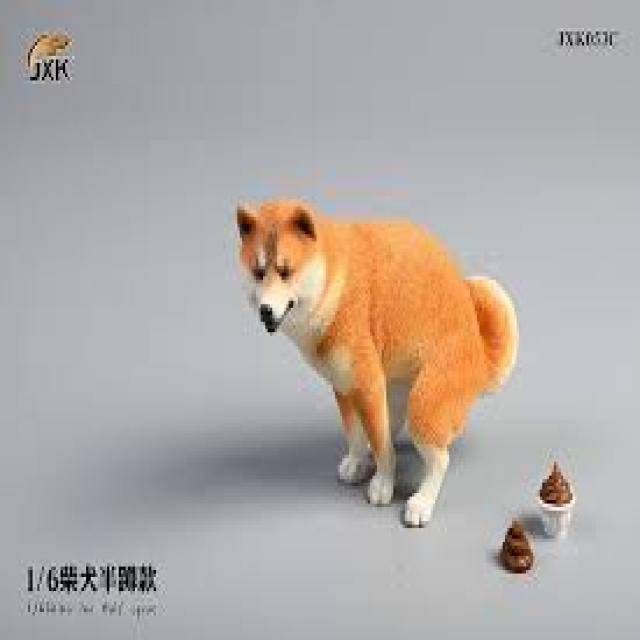Shiba-Inu: (235, 196, 518, 529)
